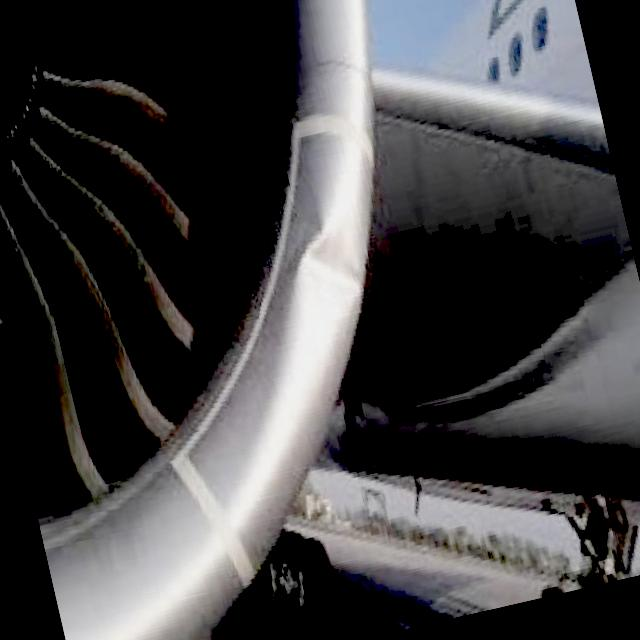dent: (294, 202, 365, 307)
